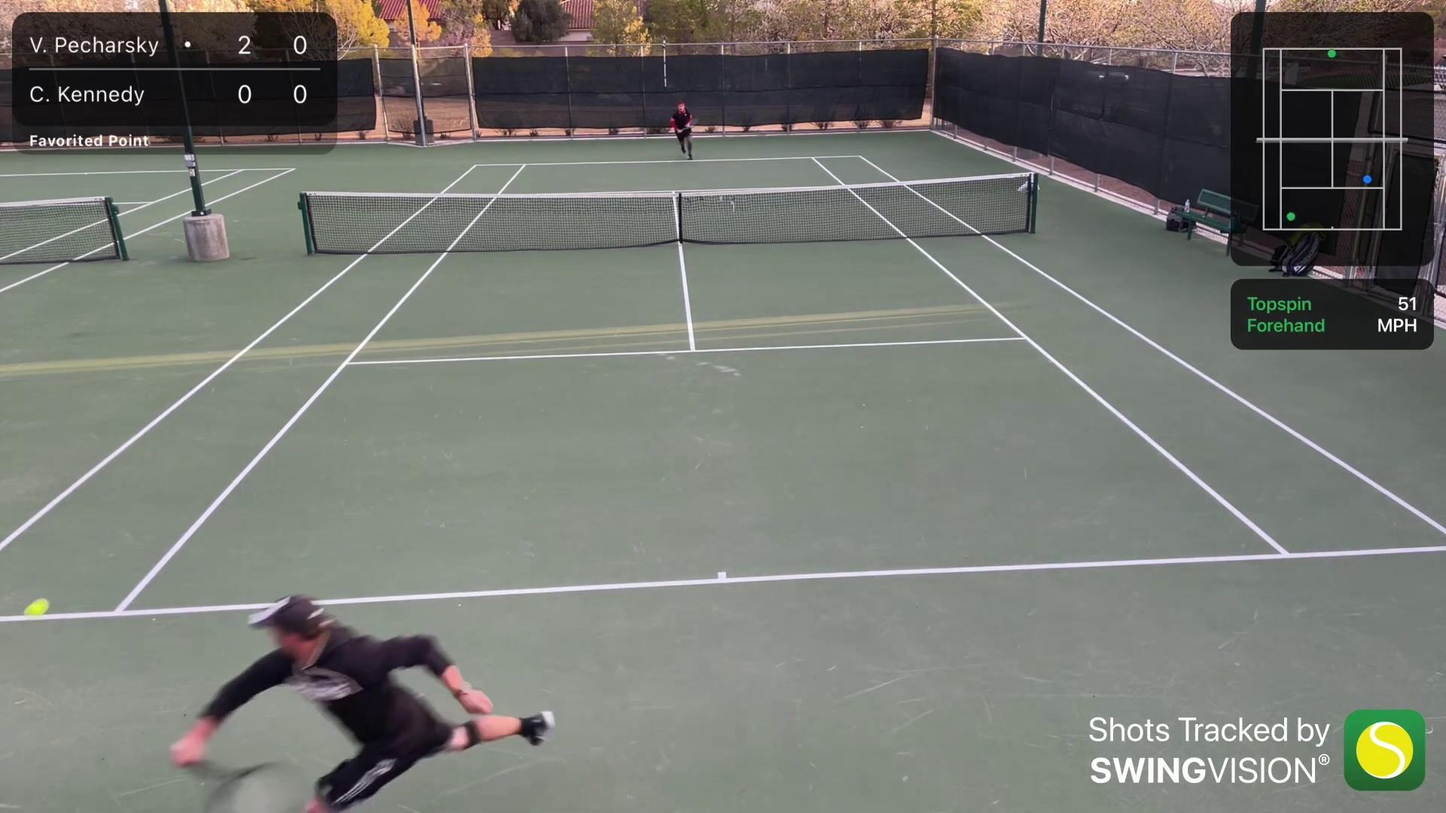ball: (20, 596, 52, 614)
